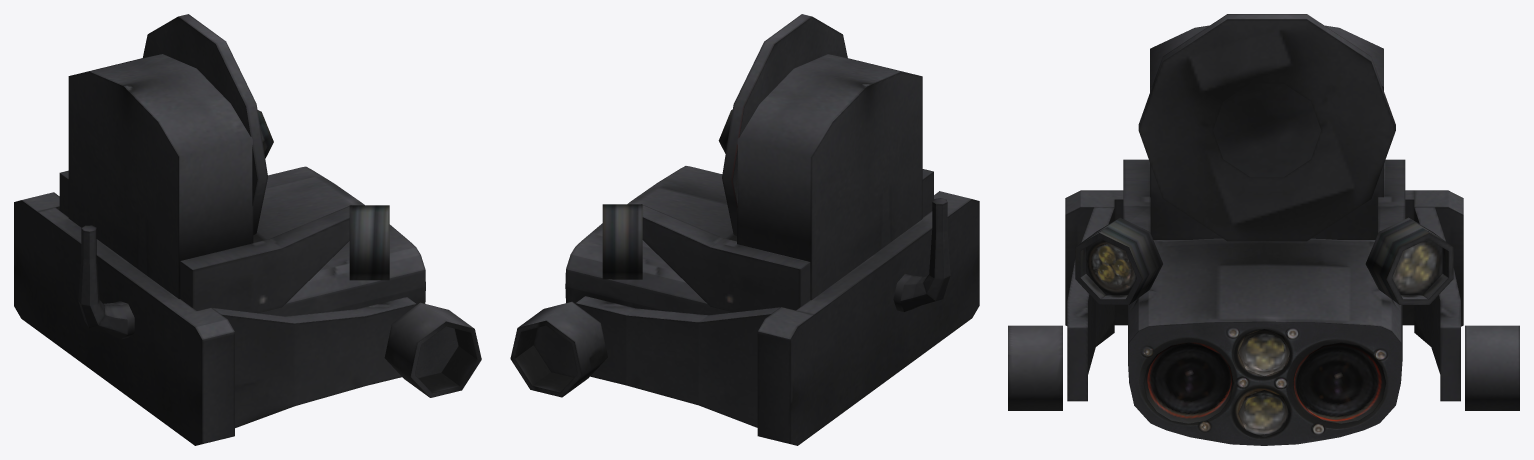
The model's file is head.dae.
3 views of the same model, side by side, from view 1: azimuth 30°, elevation 25°; view 2: azimuth 150°, elevation 25°; view 3: azimuth 270°, elevation 25° (orthographic). The views are drawn at different scales.
Parts seen in each view (by area): view 1: head; view 2: head; view 3: head.
Boxes of the visible parts, box(x1,y1,x2,y2) form: head: box(14, 14, 481, 445); head: box(510, 14, 979, 445); head: box(1008, 14, 1519, 445).
Size of the model in its own units: 0.1679 by 0.235 by 0.1765.
1 material, 1 textured.
